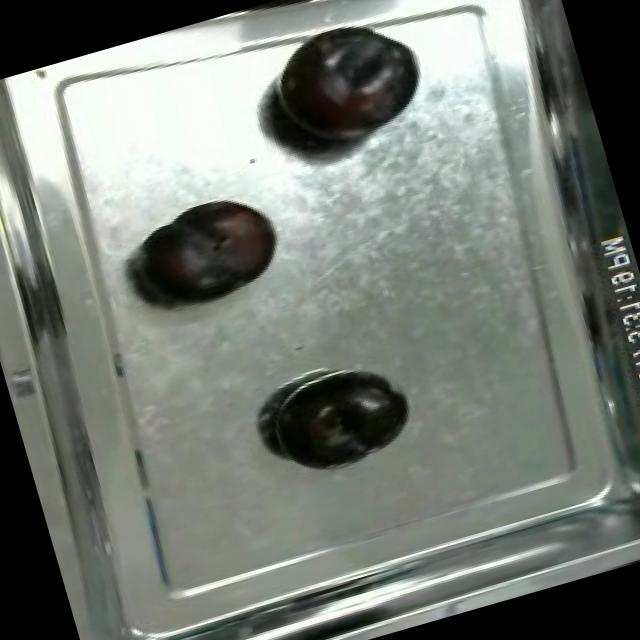Fruit: (250, 7, 438, 170), (125, 184, 293, 320), (260, 360, 423, 484)
